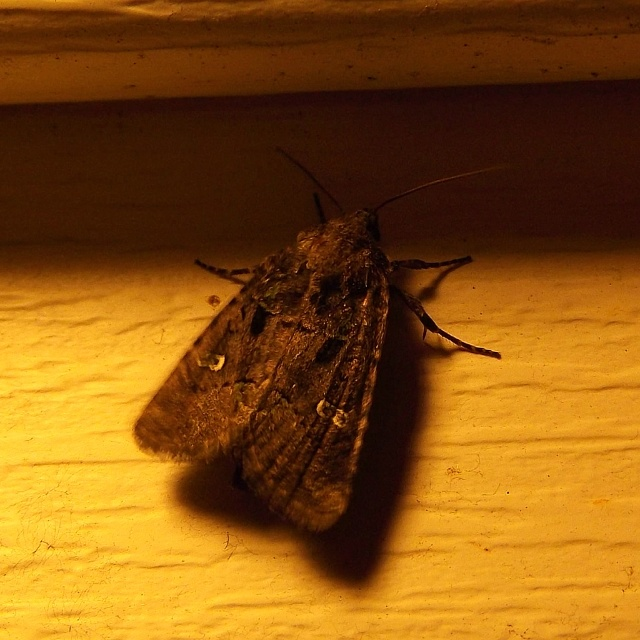Moths and butterflies: (130, 144, 523, 532)
